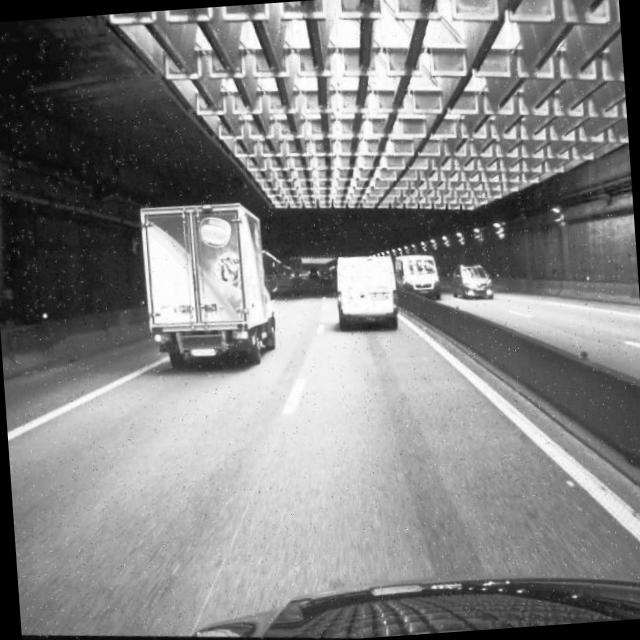Truck: (137, 201, 286, 381)
